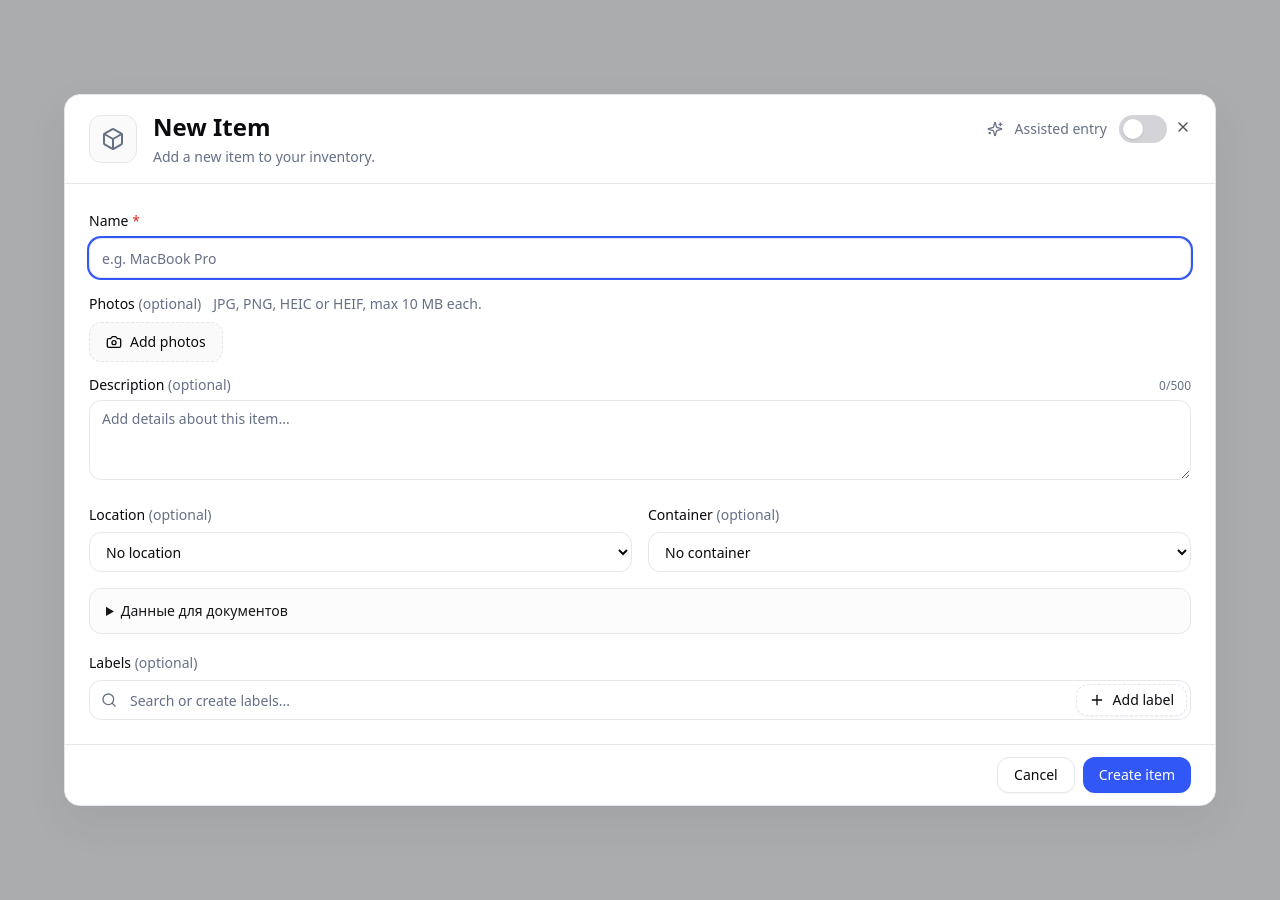
it: standard entry exposes the reference fields and validates the required name
Expected: the heading "New Item" is shown, [153,110,270,143]
Click the button "Create item".
click(1137, 775)  # box [1083,757,1191,793]
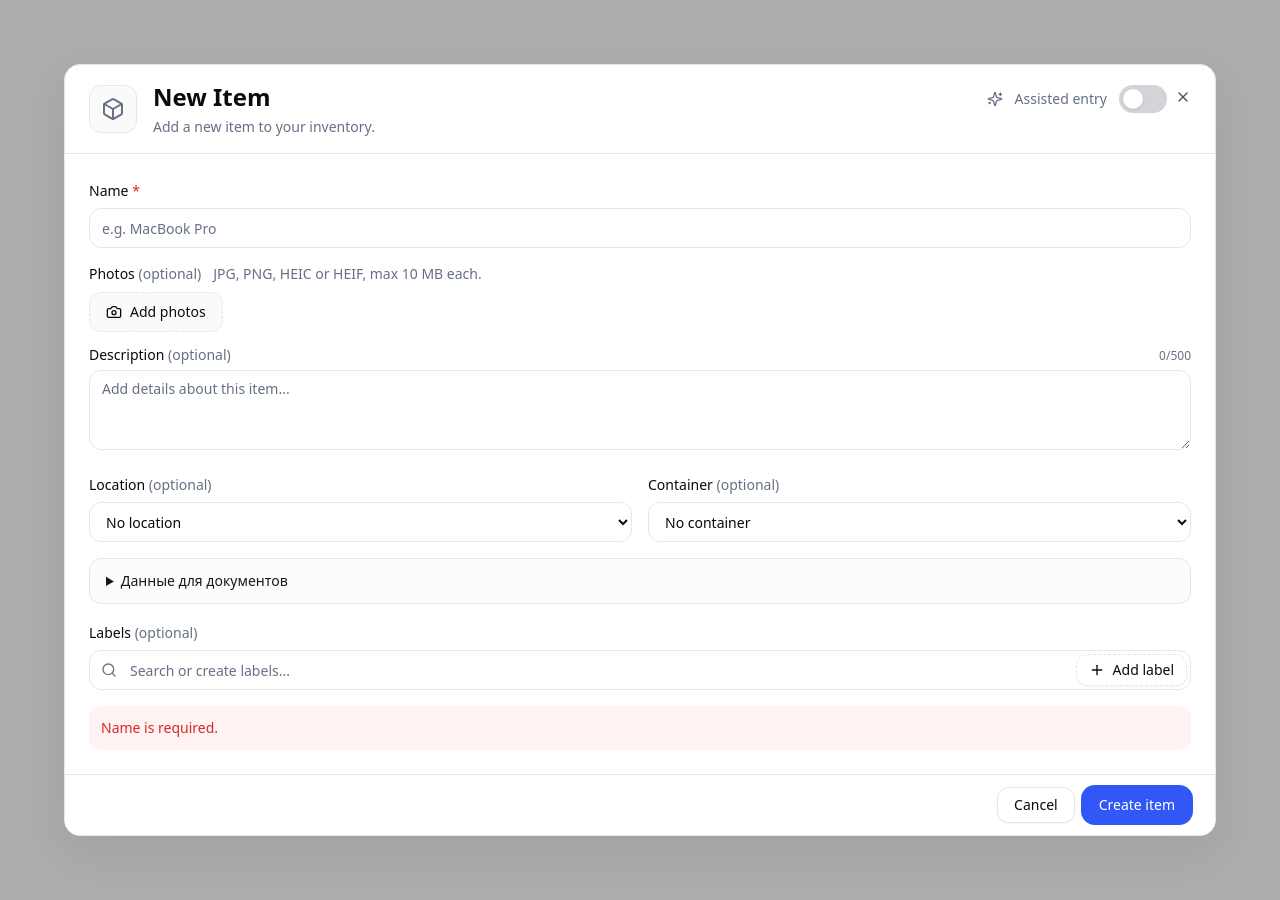
Expected: the message shows "Name is required", [101,718,218,737]
